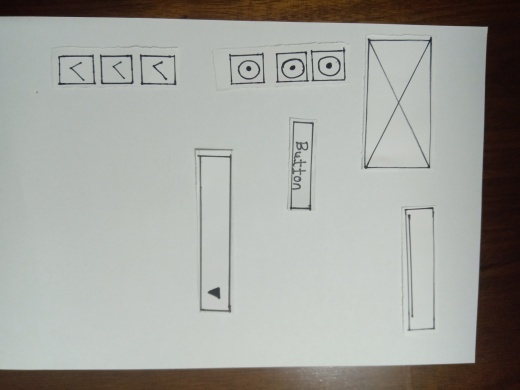button: (293, 121, 311, 206)
checkbox: (56, 56, 94, 84), (100, 54, 135, 81), (142, 56, 174, 83)
dropdown: (202, 155, 231, 310)
img: (368, 36, 429, 167)
radio: (312, 51, 344, 82), (231, 55, 264, 84), (279, 50, 307, 84)
text: (405, 209, 438, 332)
